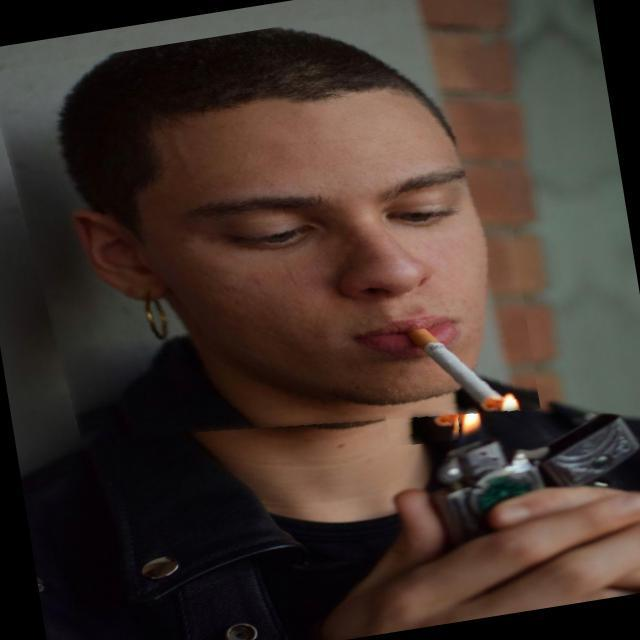cigarette: (374, 324, 469, 450)
